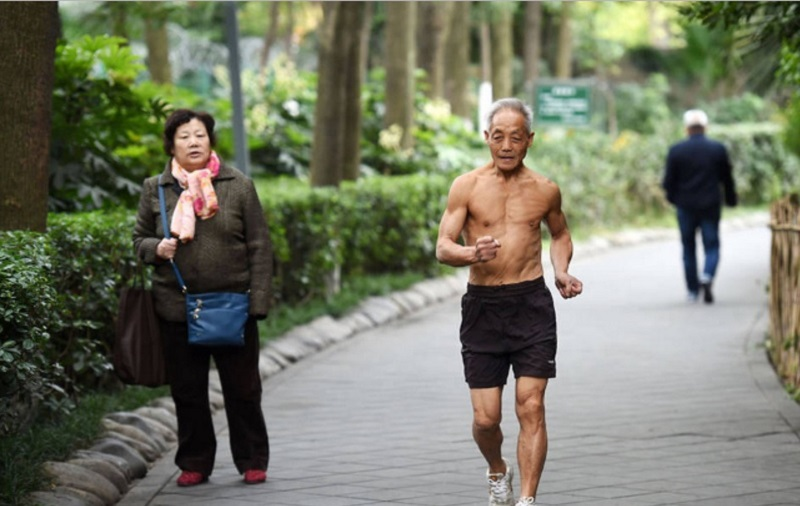Person: (434, 97, 583, 506), (131, 109, 274, 487), (660, 109, 740, 305)
